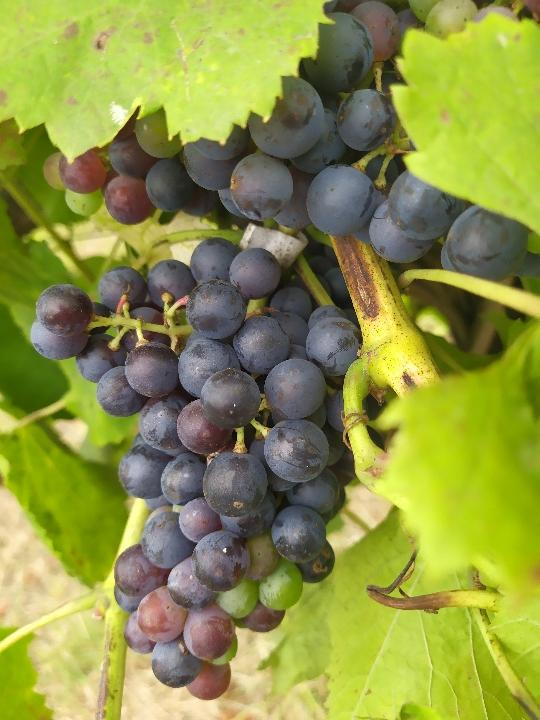grape: (28, 238, 379, 705)
